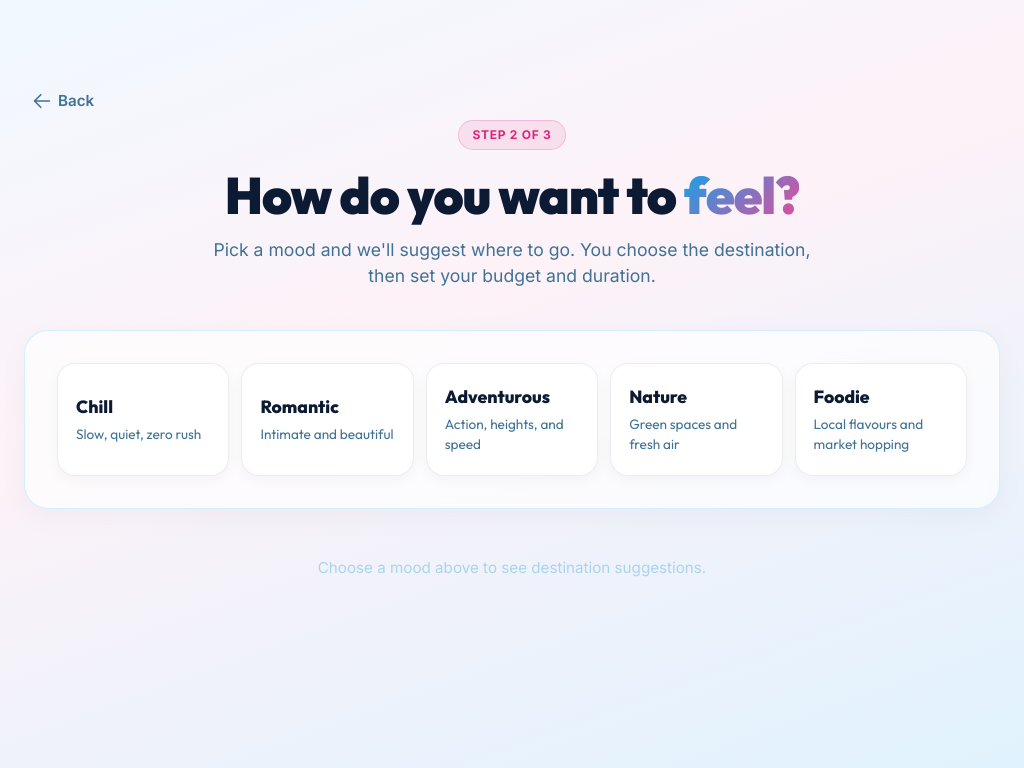
Scenario: MoodDestinationPage › shows a recoverable error when suggestions fail
The image size is (1024, 768).
Click the button "Chill Slow, quiet, zero rush" at point(143, 419), box [57, 363, 229, 476]
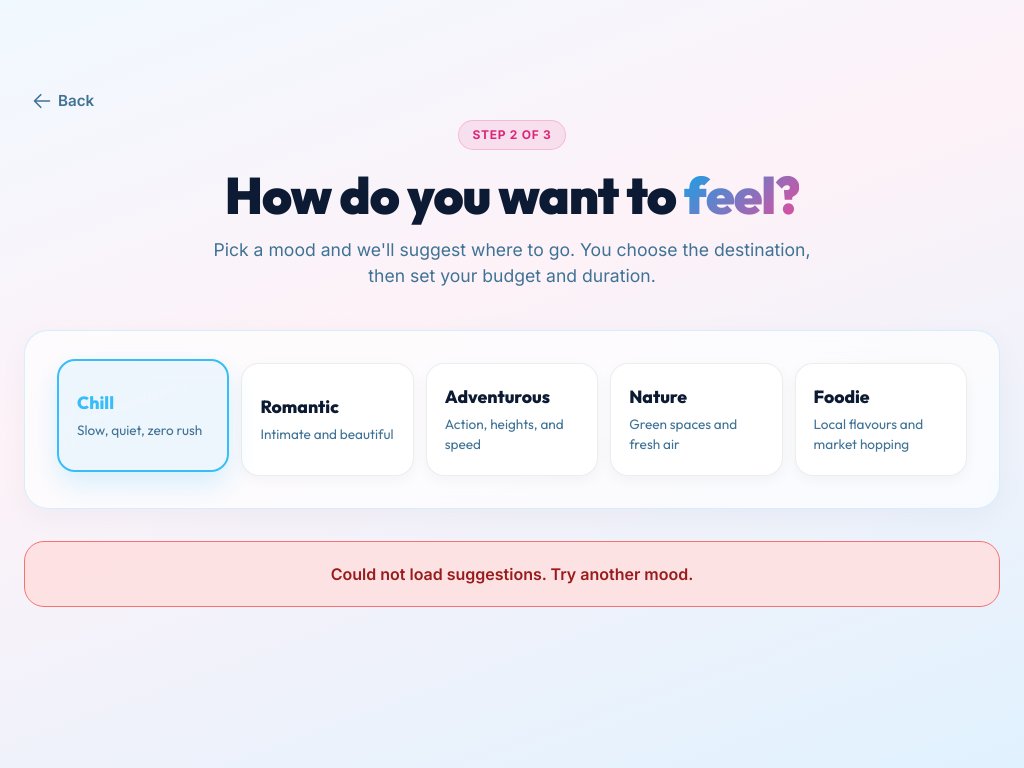
Check: the text "Could not load suggestions. Try another mood." is shown, box [24, 541, 1000, 607]
